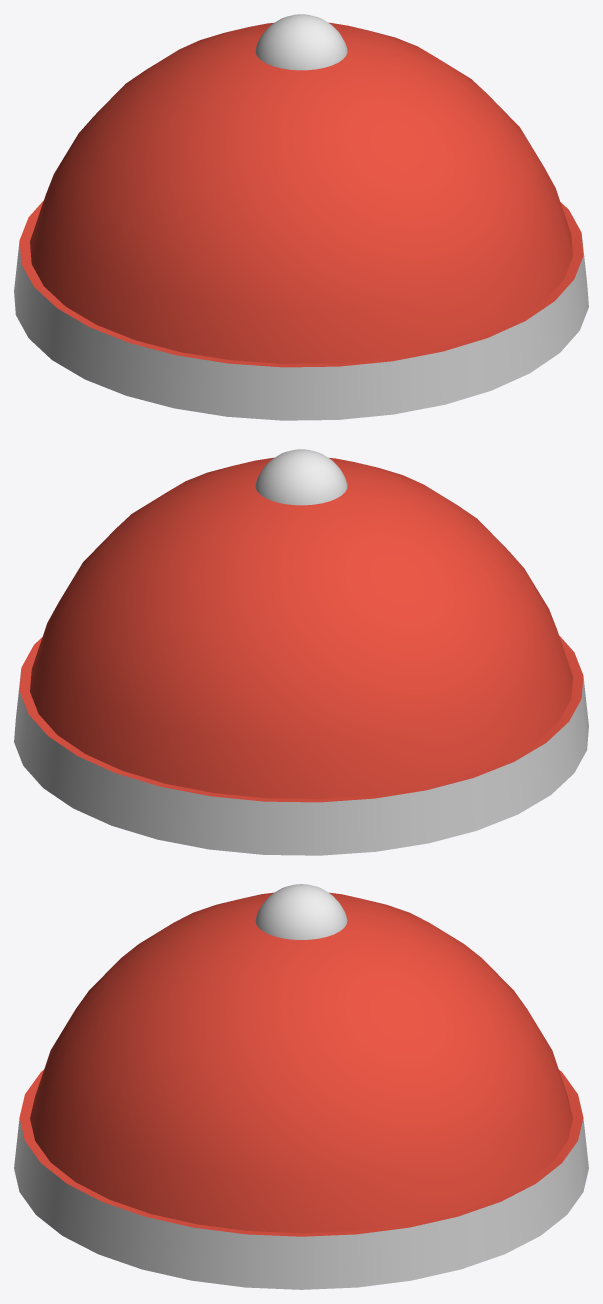
Rendered from santa_boushi.glb.
The picture shows the model from 3 angles, top to bottom: view 1: azimuth 30°, elevation 25°; view 2: azimuth 150°, elevation 25°; view 3: azimuth 270°, elevation 25°; orthographic projection.
Visible parts, largest first — view 1: head.001, 球; view 2: head.001, 球; view 3: head.001, 球.
Boxes of the visible parts, x1,y1,x2,y2 form: head.001: (14, 22, 588, 420); 球: (255, 14, 347, 70); head.001: (14, 457, 588, 855); 球: (255, 449, 347, 505); head.001: (14, 892, 588, 1289); 球: (255, 884, 347, 939).
Bounding box in the file's own units: 1.45 × 0.7802 × 1.45.
